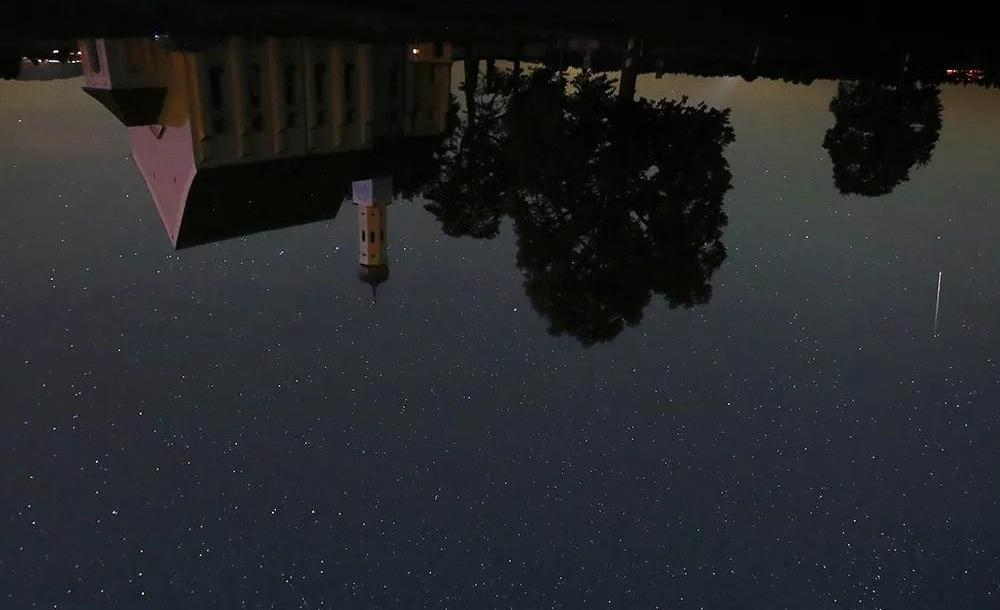meteorite: (922, 258, 952, 335)
